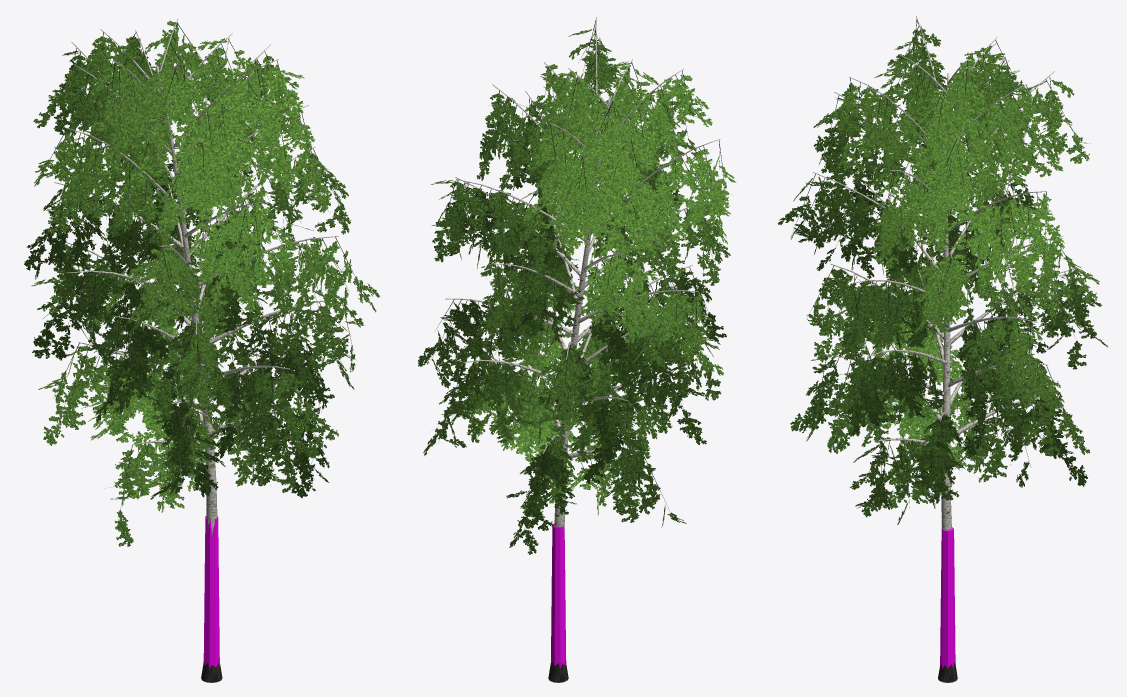
The model's file is EN_Tree_Birch_A.fbx.
3 views of the same model, side by side, from view 1: azimuth 30°, elevation 25°; view 2: azimuth 150°, elevation 25°; view 3: azimuth 270°, elevation 25° (orthographic). The views are drawn at different scales.
Visible parts, largest first — view 1: EN_Tree_Birch_A_LOD0, COL_Trunk; view 2: EN_Tree_Birch_A_LOD0, COL_Trunk; view 3: EN_Tree_Birch_A_LOD0, COL_Trunk.
Boxes of the visible parts, box(x1,y1,x2,y2) form: EN_Tree_Birch_A_LOD0: box(24, 18, 379, 682); COL_Trunk: box(203, 515, 219, 669); EN_Tree_Birch_A_LOD0: box(417, 17, 736, 682); COL_Trunk: box(551, 523, 566, 668); EN_Tree_Birch_A_LOD0: box(778, 16, 1107, 682); COL_Trunk: box(940, 527, 955, 669).
Size of what is drawn, in the model's own units: 8.37 by 16.29 by 8.15.
